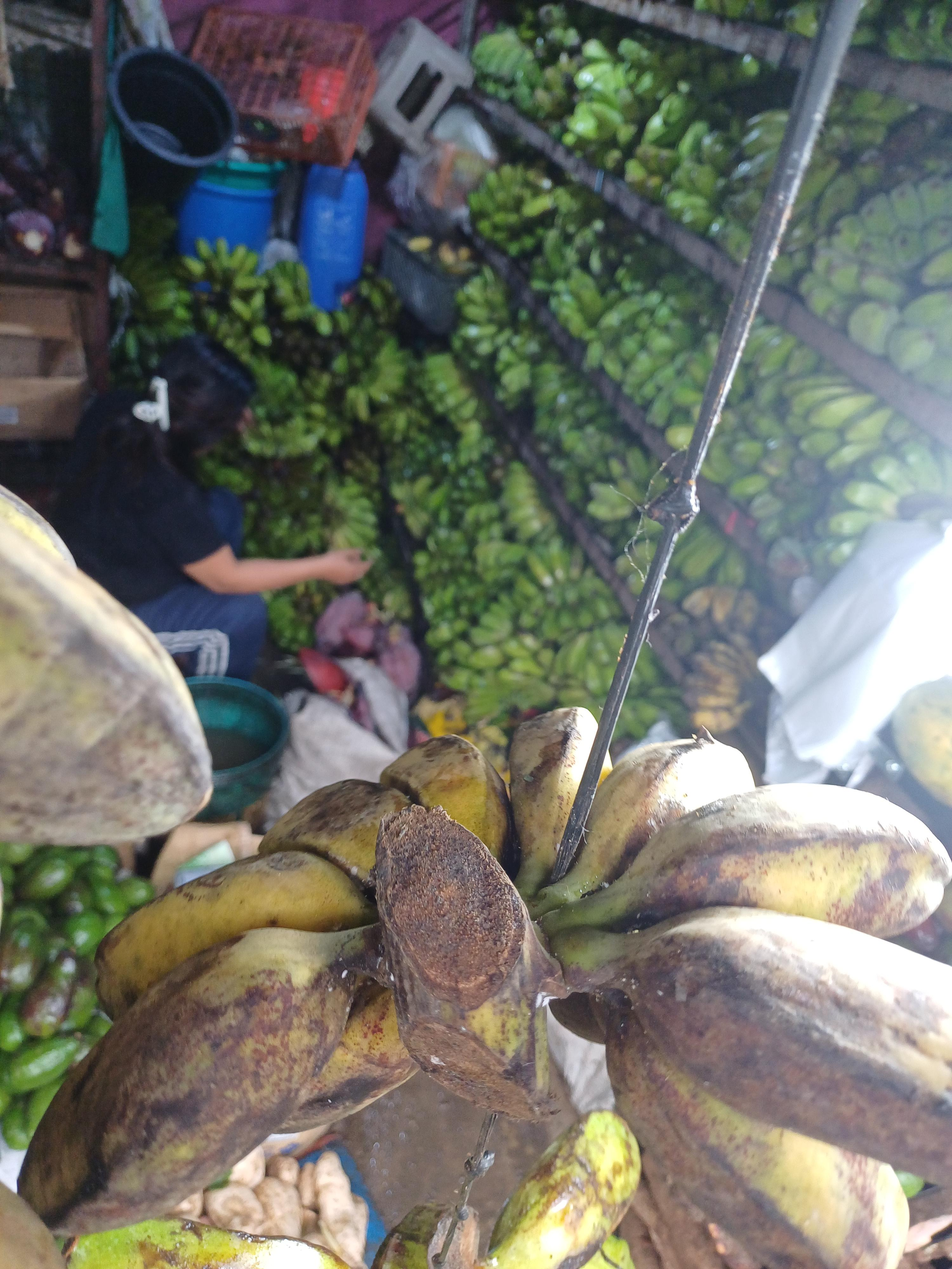underripe: (19, 706, 597, 1240), (549, 739, 952, 1269), (0, 487, 212, 845)
